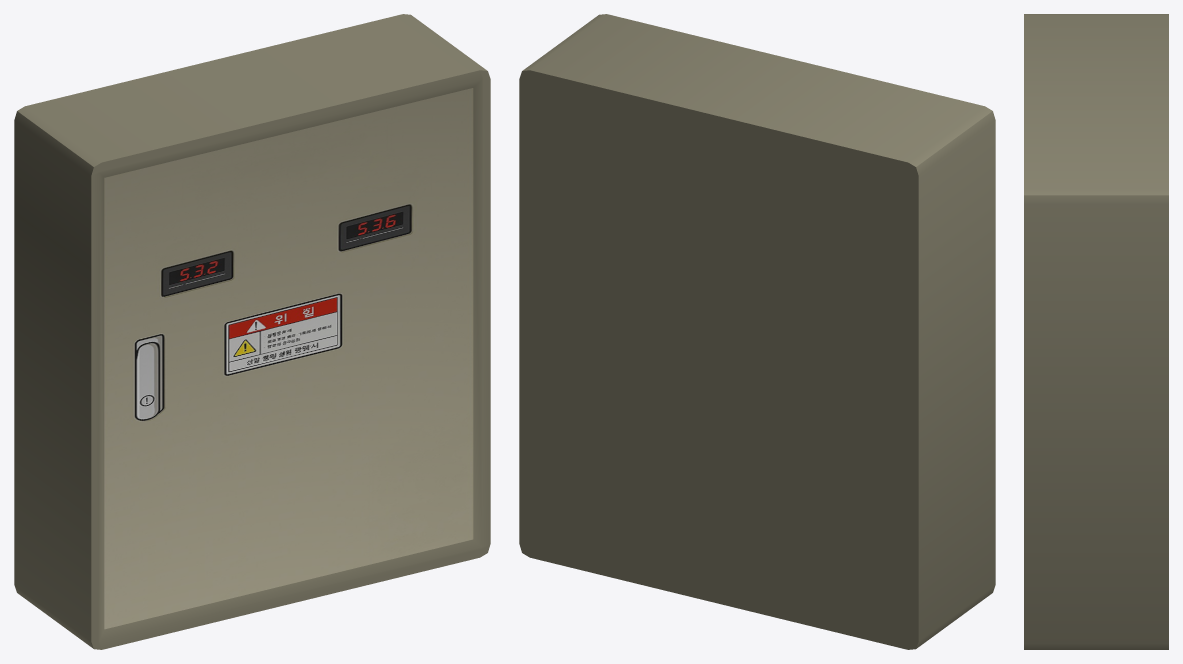
3 views of the same model, side by side, from view 1: azimuth 30°, elevation 25°; view 2: azimuth 150°, elevation 25°; view 3: azimuth 270°, elevation 25° (orthographic). The views are drawn at different scales.
Parts seen in each view (by area): view 1: PLC본체(전원환경감시)017; view 2: PLC본체(전원환경감시)017; view 3: PLC본체(전원환경감시)017.
Boxes of the visible parts, x1,y1,x2,y2 form: PLC본체(전원환경감시)017: (14,14,490,649); PLC본체(전원환경감시)017: (519,14,995,649); PLC본체(전원환경감시)017: (1024,14,1168,649).
Size of the model in its own units: 0.6 by 0.7 by 0.2.
2 materials, 1 textured.
